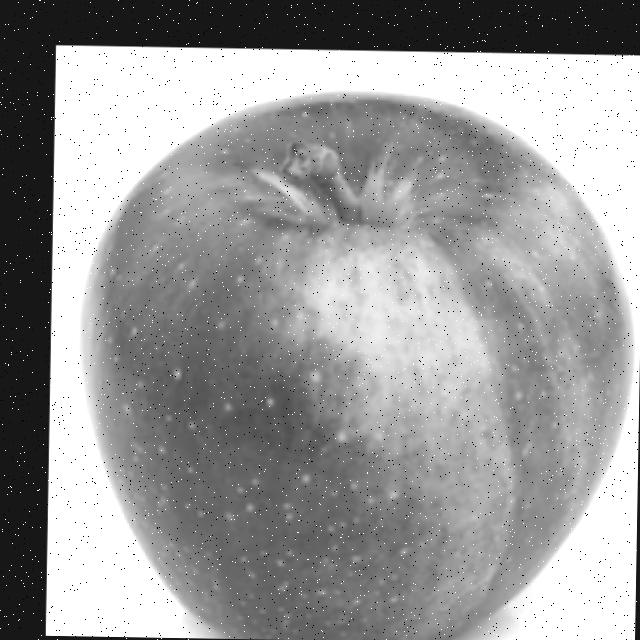Ripe: (67, 79, 640, 640)
